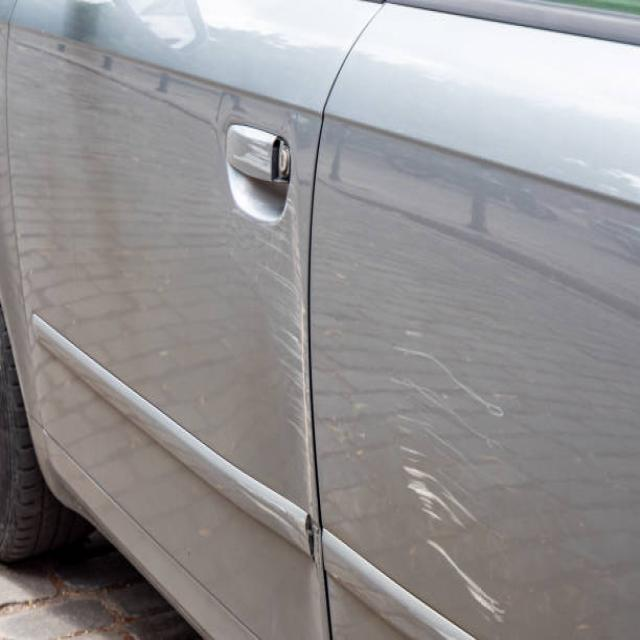scratch: (381, 322, 521, 630), (268, 173, 340, 584)
